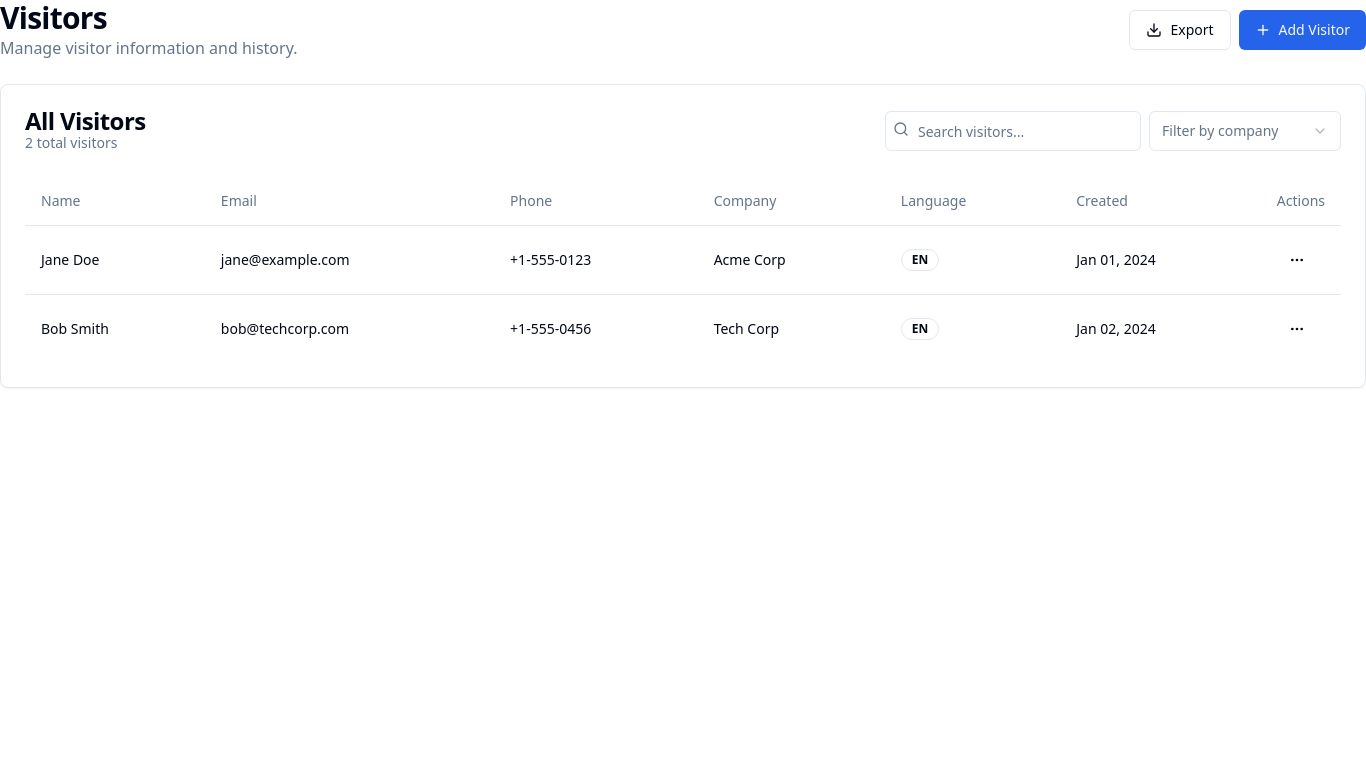
Scenario: VisitorsPage › opens edit dialog when edit action is clicked
expect the text "Jane Doe" is shown: met, box left=25, top=225, right=205, bottom=294
What coordinates should you click on to do the following:
click the button without text in the row of "Doe"
I would click on:
 (1297, 260)
Its box is left=1277, top=242, right=1317, bottom=278.
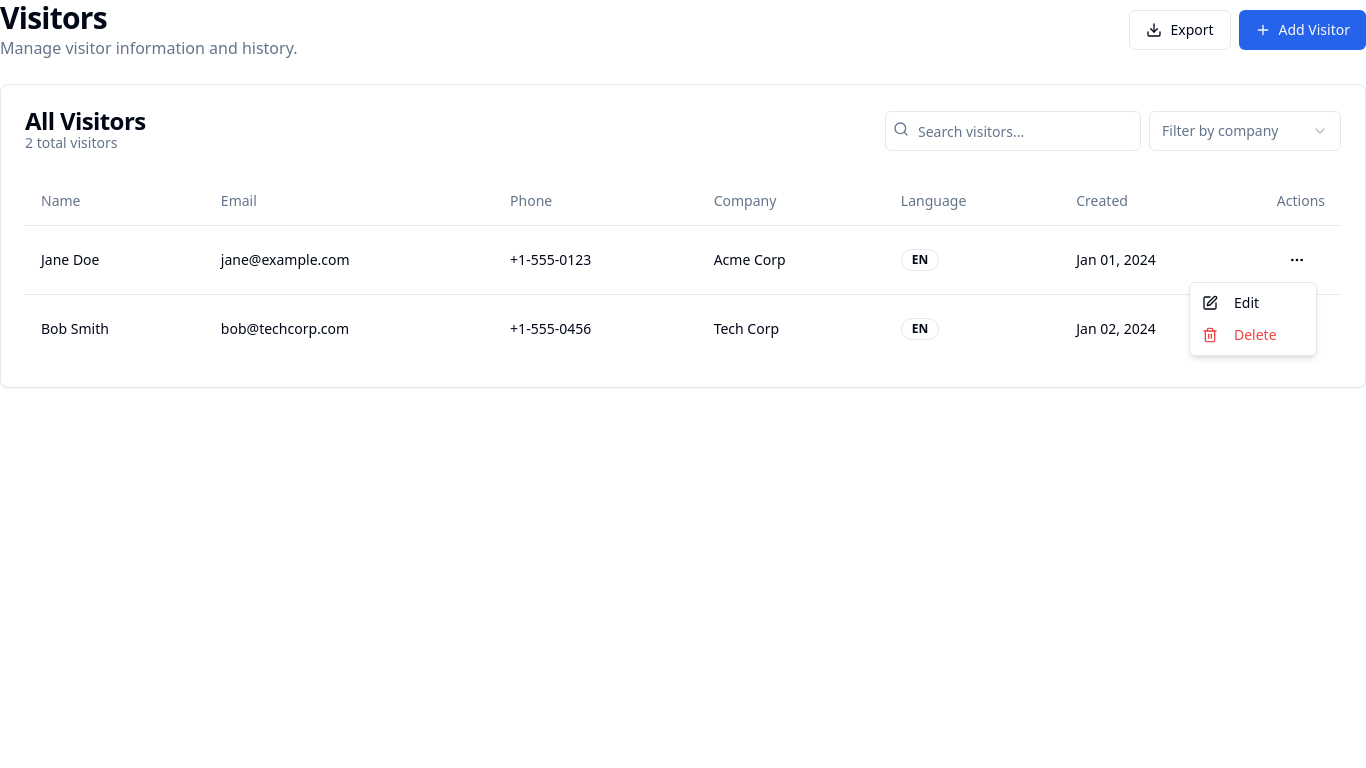
What coordinates should you click on to do the following:
click the menu item "Edit"
I would click on:
 (1210, 303)
Its box is left=1202, top=293, right=1259, bottom=312.
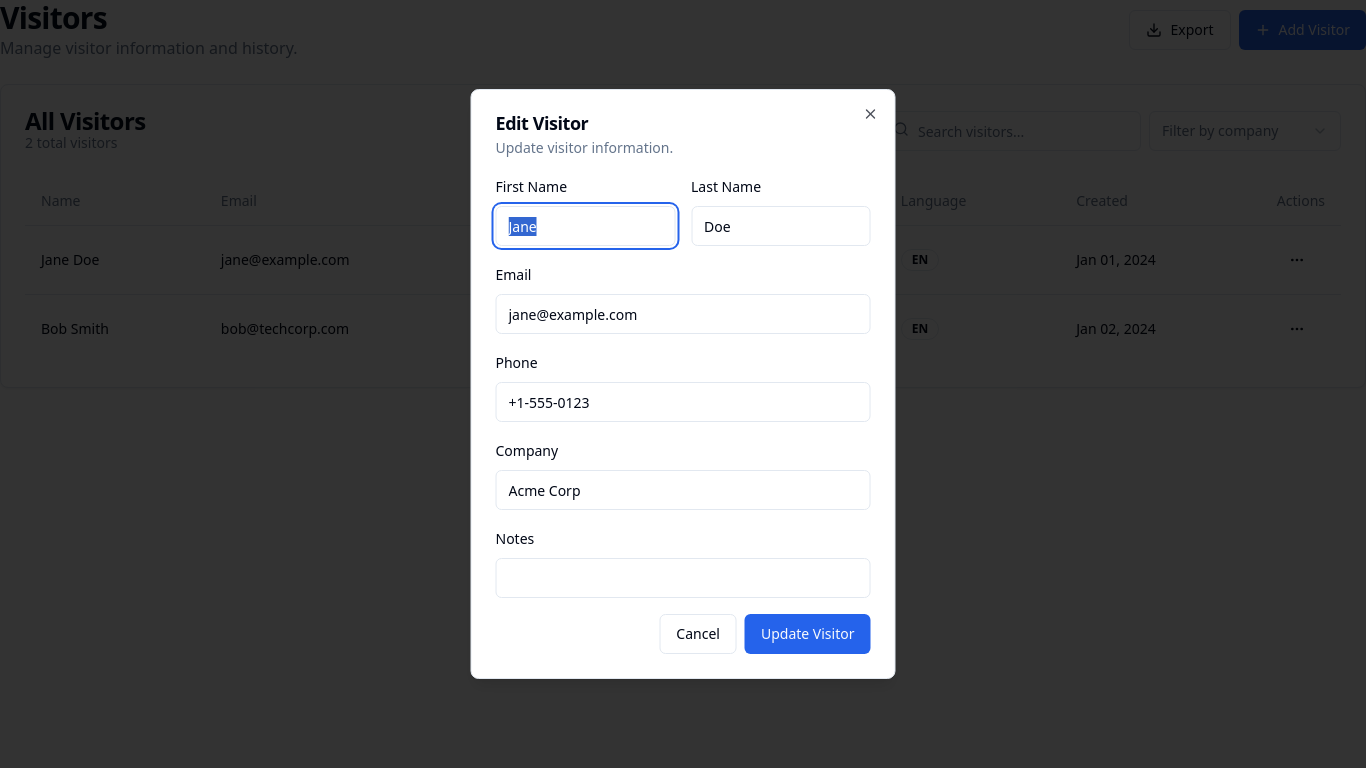
expect the heading "Edit Visitor" is shown: met, box left=496, top=111, right=588, bottom=135
